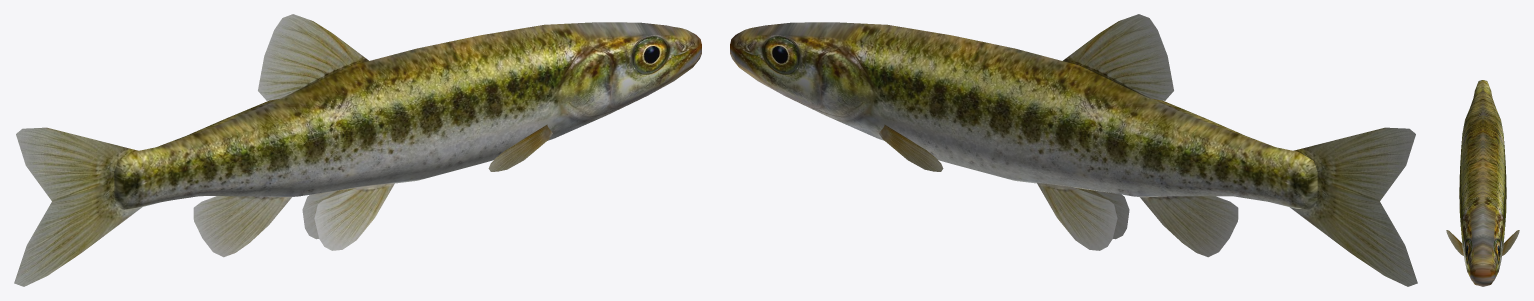
The model's file is EuropeanMinnow.glb.
3 views of the same model, side by side, from view 1: azimuth 30°, elevation 25°; view 2: azimuth 150°, elevation 25°; view 3: azimuth 270°, elevation 25° (orthographic). The views are drawn at different scales.
Parts seen in each view (by area): view 1: EuropeanMinnow; view 2: EuropeanMinnow; view 3: EuropeanMinnow.
Boxes of the visible parts, bbox=[...] form: EuropeanMinnow: bbox=[14, 14, 701, 286]; EuropeanMinnow: bbox=[730, 14, 1417, 286]; EuropeanMinnow: bbox=[1446, 80, 1519, 286].
Size of the model in its own units: 2 by 0.6701 by 0.2881.
1 material, 1 textured.
